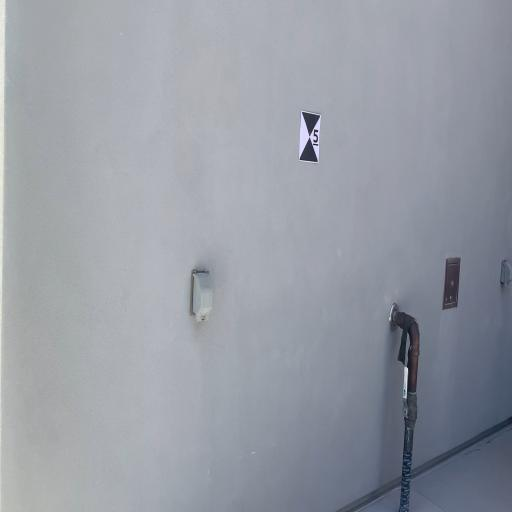target5: (301, 109, 320, 164)
